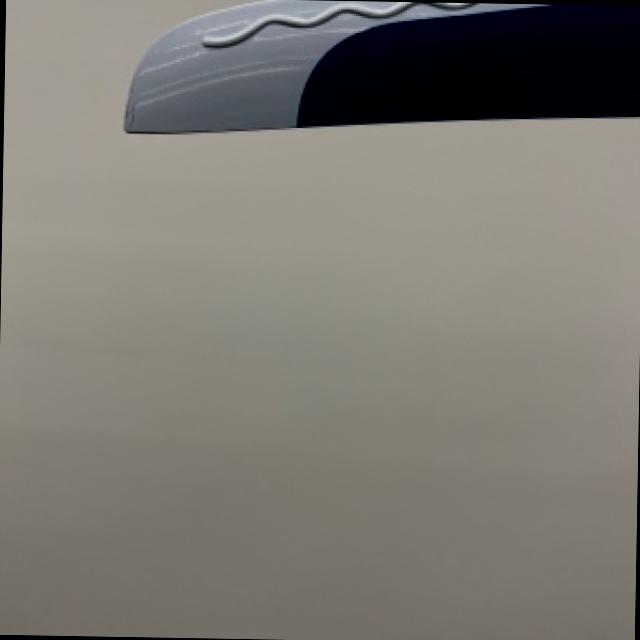healthy: (127, 0, 640, 130)
